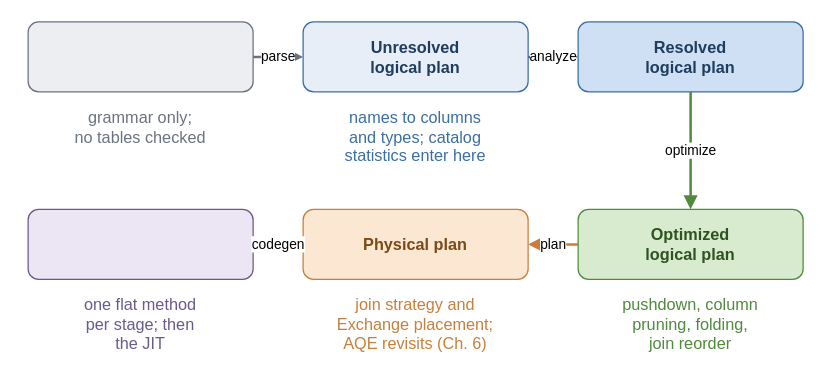
This 830x379 diagram has some shape labels left out. The shapes that lost their labels are listed below. From the top down, each one's centre as x and y in pixels, then its label:
At (140,56): "SQL / DataFrame".
At (140,243): "Java bytecode".
